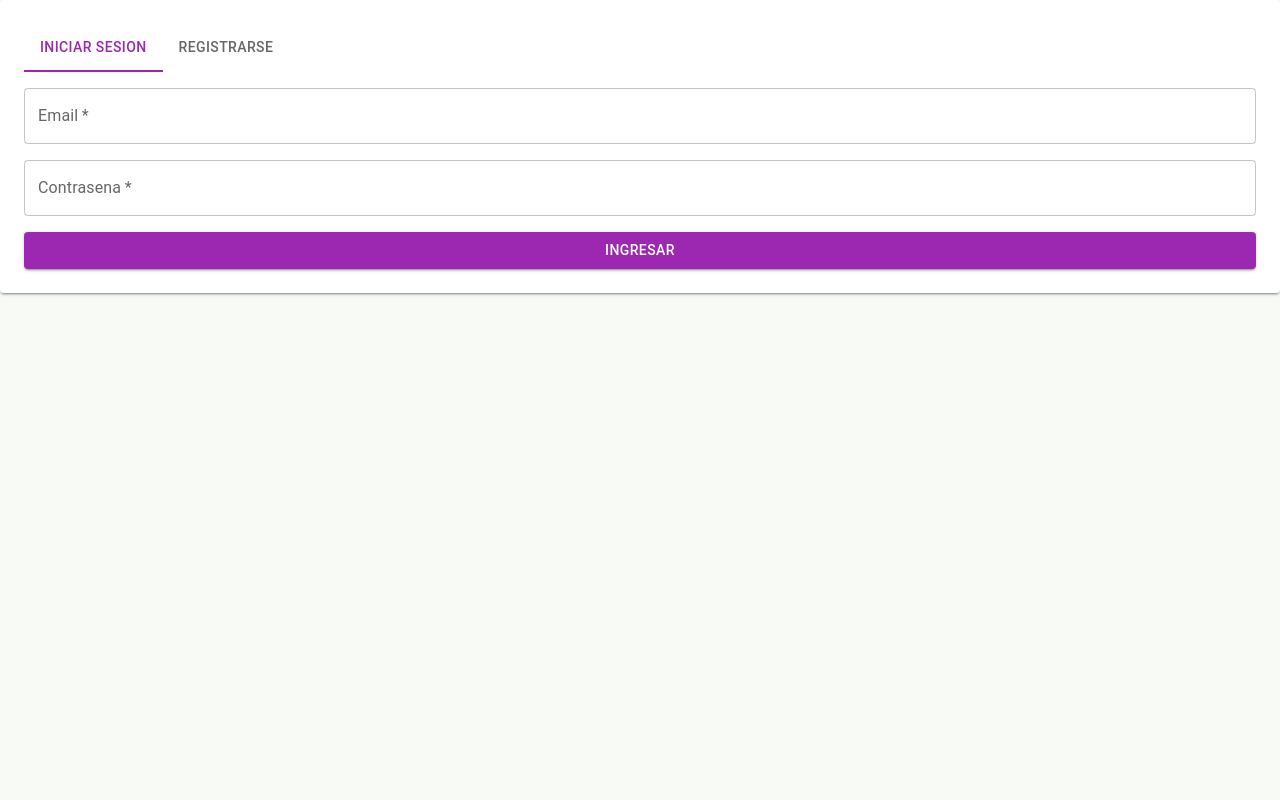
Test: CuentaAgricultor — Línea Gráfica Pitahaya › renders "Crear cuenta" button with secondary color after switching to register tab
This screenshot has width=1280, height=800.
// Click "Registrarse" tab
Click the tab "Registrarse".
click(226, 48)  # box [163, 24, 289, 72]
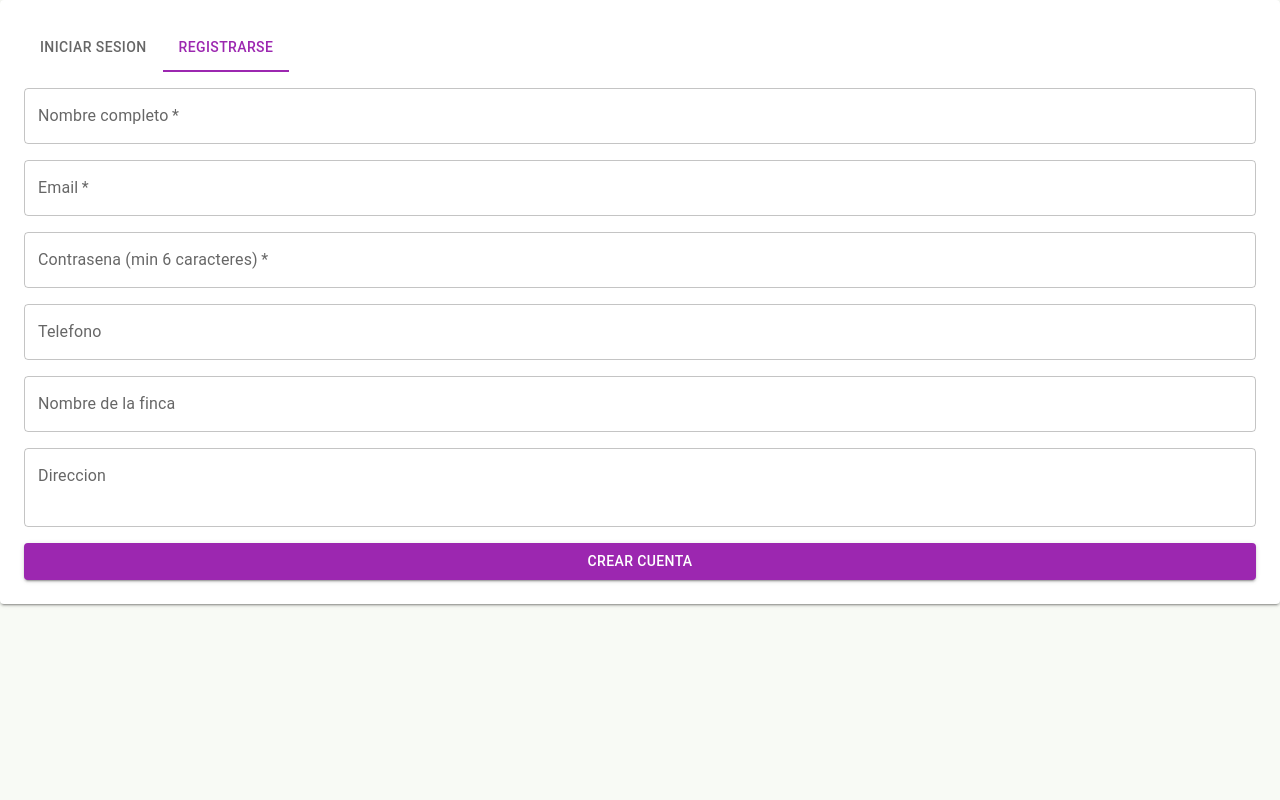
Expected: the button "Crear cuenta" is shown, [24, 543, 1256, 580]
